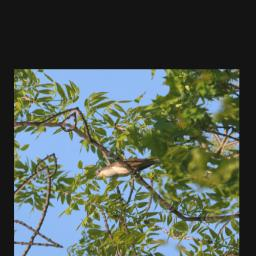Cuckoo: (93, 142, 165, 195)
